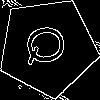Q: (22, 22, 76, 67)
